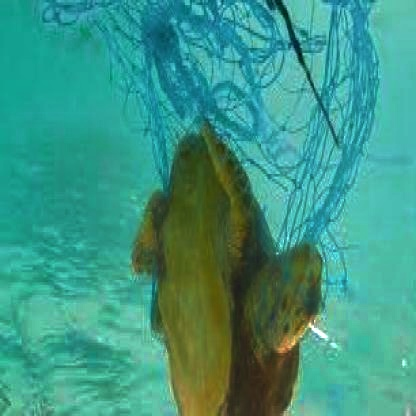net: (68, 3, 381, 254)
